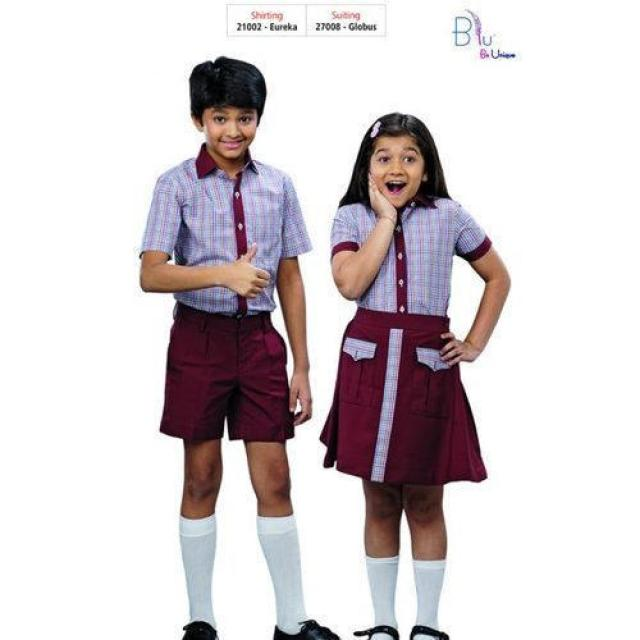child: (127, 54, 324, 634), (317, 96, 512, 640)
